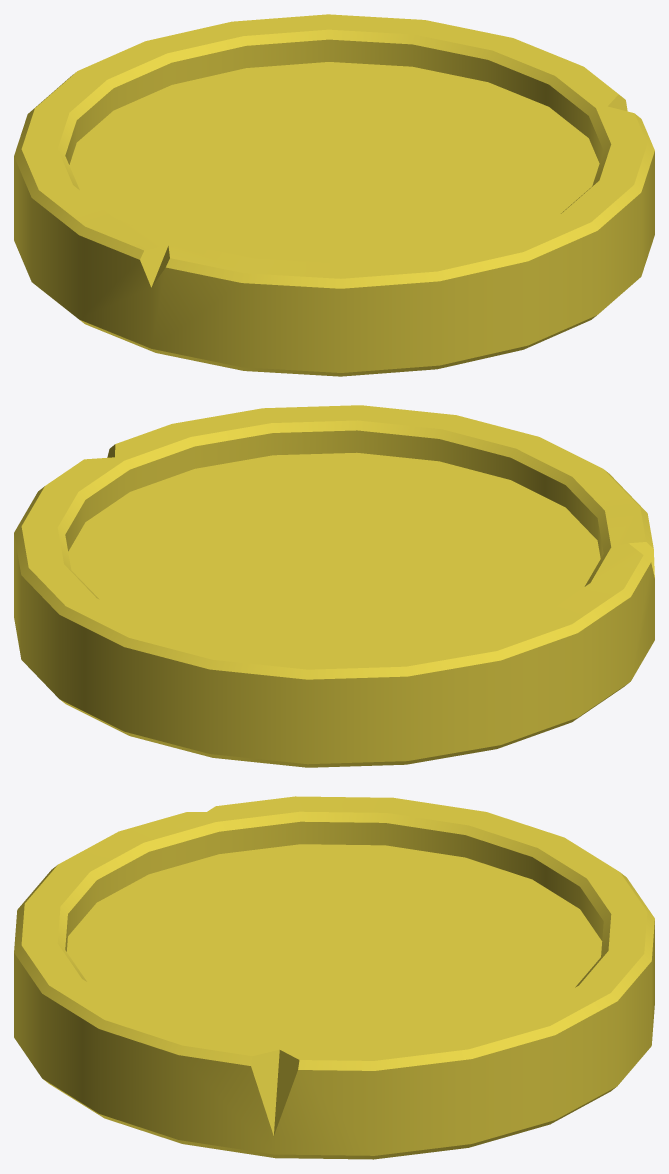
File: Coin.fbx
3 renders of one model, top to bottom at view 1: azimuth 30°, elevation 25°; view 2: azimuth 150°, elevation 25°; view 3: azimuth 270°, elevation 25°, orthographic.
Visible parts, largest first — view 1: Cylinder; view 2: Cylinder; view 3: Cylinder.
Part boxes in pixels (x1,y1,x2,y2): Cylinder: (14, 14, 654, 376); Cylinder: (14, 405, 654, 767); Cylinder: (14, 796, 654, 1159).
Bounding box in the file's own units: 1.98 × 0.3492 × 1.98.
